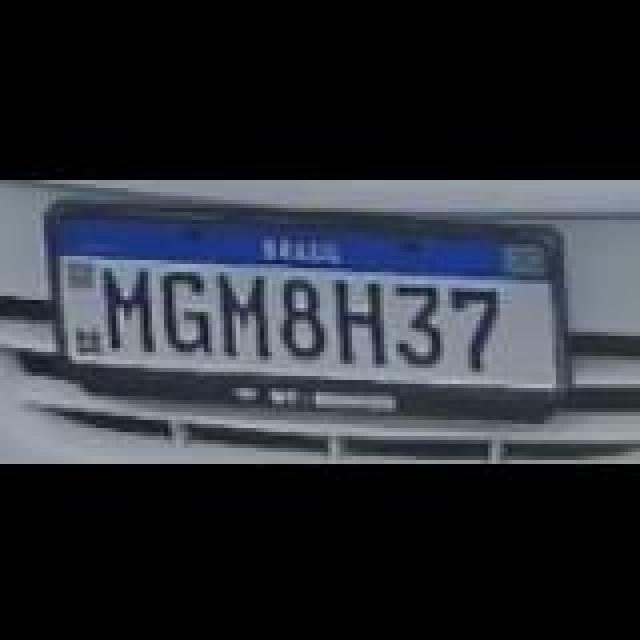3: (388, 282, 452, 366)
7: (448, 282, 512, 366)
8: (272, 274, 336, 358)
G: (154, 264, 222, 352)
H: (332, 276, 396, 364)
M: (100, 264, 164, 352), (212, 268, 276, 356)
